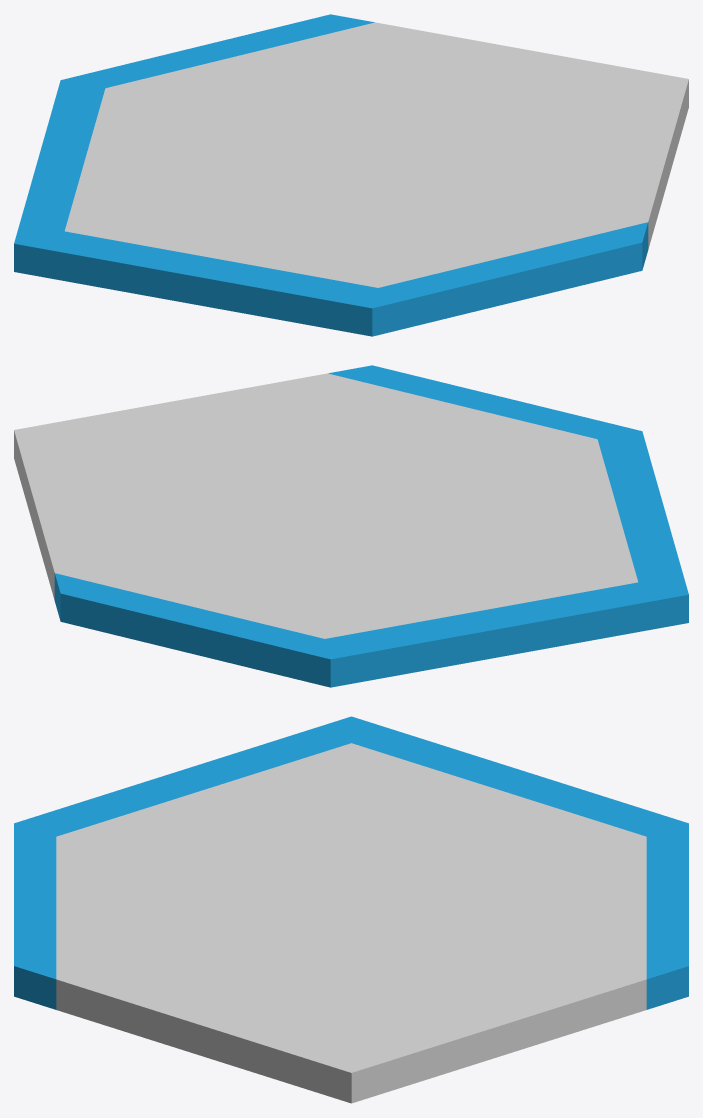
3 renders of one model, top to bottom at view 1: azimuth 30°, elevation 25°; view 2: azimuth 150°, elevation 25°; view 3: azimuth 270°, elevation 25°, orthographic. The views are drawn at different scales.
Visible parts, largest first — view 1: Hexagon, SWx, S, NWx.001, N; view 2: Hexagon, NWx.001, N, SWx, S; view 3: Hexagon, NWx.001, SWx, S, N.
Part boxes in pixels (bbox=[...]): Hexagon: bbox=[65, 22, 688, 287]; SWx: bbox=[14, 231, 377, 336]; S: bbox=[372, 222, 648, 336]; NWx.001: bbox=[14, 80, 105, 243]; N: bbox=[61, 14, 374, 88]; Hexagon: bbox=[14, 373, 637, 638]; NWx.001: bbox=[325, 582, 688, 687]; N: bbox=[54, 573, 330, 687]; SWx: bbox=[597, 431, 688, 594]; S: bbox=[328, 365, 641, 439]; Hexagon: bbox=[56, 743, 646, 1103]; NWx.001: bbox=[351, 716, 688, 836]; SWx: bbox=[14, 716, 351, 836]; S: bbox=[14, 823, 56, 1009]; N: bbox=[646, 823, 688, 1009].
Bounding box in the file's own units: 5 × 4 × 0.2.
